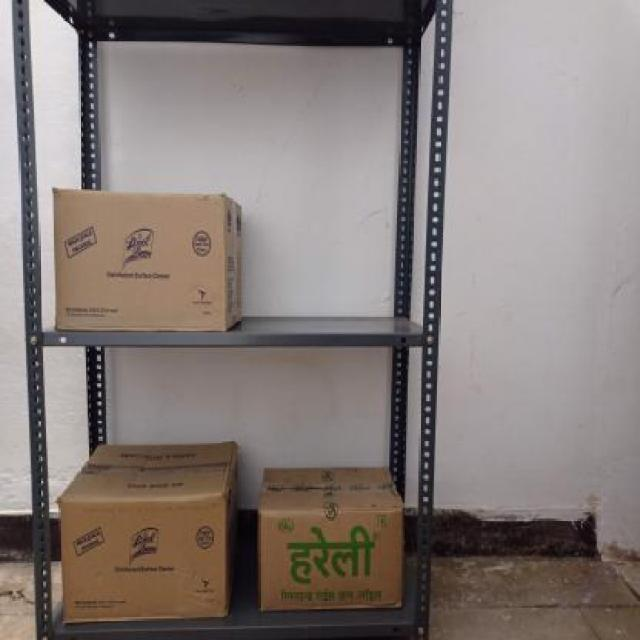box: (57, 191, 225, 333), (61, 492, 226, 628), (260, 507, 402, 609)
